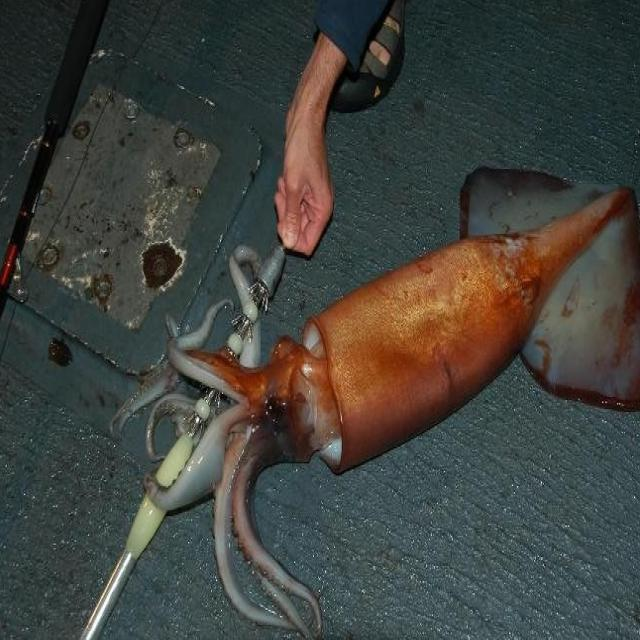SQUID: (111, 136, 640, 640)
